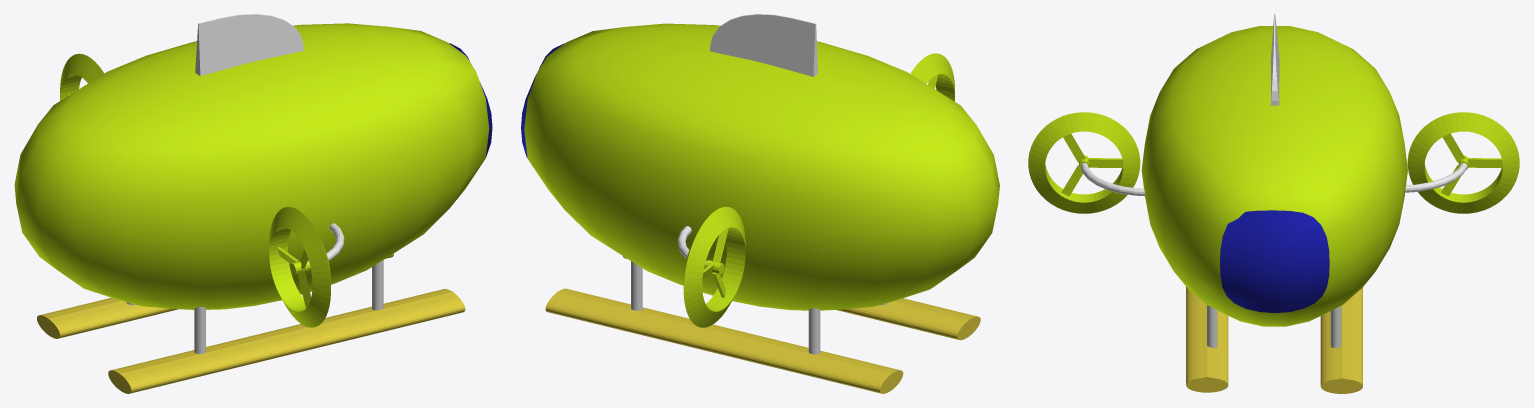
File: submarin.gltf
3 views of the same model, side by side, from view 1: azimuth 30°, elevation 25°; view 2: azimuth 150°, elevation 25°; view 3: azimuth 270°, elevation 25° (orthographic). The views are drawn at different scales.
Parts seen in each view (by area): view 1: carlinga, pluta dreapta, propulsor dreapta, Cube, pluta stanga, propulsor.001, picior dreapta fata, picior dreapta spate; view 2: carlinga, pluta stanga, propulsor.001, Cube, pluta dreapta, propulsor dreapta, picior stanga spate, picior stanga fata; view 3: carlinga, fereastra fata, propulsor dreapta, propulsor.001, pluta stanga, pluta dreapta, Cube, bara propulsor dreapta, bara propulsor dreapta.001, picior stanga fata, picior dreapta fata.
Part boxes in pixels (<box>): carlinga: <box>14,23,489,309</box>; pluta dreapta: <box>108,289,465,393</box>; propulsor dreapta: <box>269,207,330,327</box>; Cube: <box>195,14,303,76</box>; pluta stanga: <box>37,253,393,338</box>; propulsor.001: <box>60,53,103,100</box>; picior dreapta fata: <box>372,260,383,310</box>; picior dreapta spate: <box>194,307,205,353</box>; carlinga: <box>524,23,999,310</box>; pluta stanga: <box>545,288,903,393</box>; propulsor.001: <box>683,206,745,327</box>; Cube: <box>710,14,817,76</box>; pluta dreapta: <box>623,256,980,340</box>; propulsor dreapta: <box>910,53,954,101</box>; picior stanga spate: <box>808,308,820,354</box>; picior stanga fata: <box>631,261,642,310</box>; carlinga: <box>1141,26,1407,326</box>; fereastra fata: <box>1220,210,1329,312</box>; propulsor dreapta: <box>1028,112,1140,213</box>; propulsor.001: <box>1407,112,1519,213</box>; pluta stanga: <box>1320,287,1362,393</box>; pluta dreapta: <box>1186,287,1228,392</box>; Cube: <box>1270,14,1279,105</box>; bara propulsor dreapta: <box>1080,163,1145,196</box>; bara propulsor dreapta.001: <box>1405,163,1467,192</box>; picior stanga fata: <box>1330,306,1341,347</box>; picior dreapta fata: <box>1207,305,1217,347</box>.
Size of the model in its own units: 6.19 by 4.12 by 6.49.
